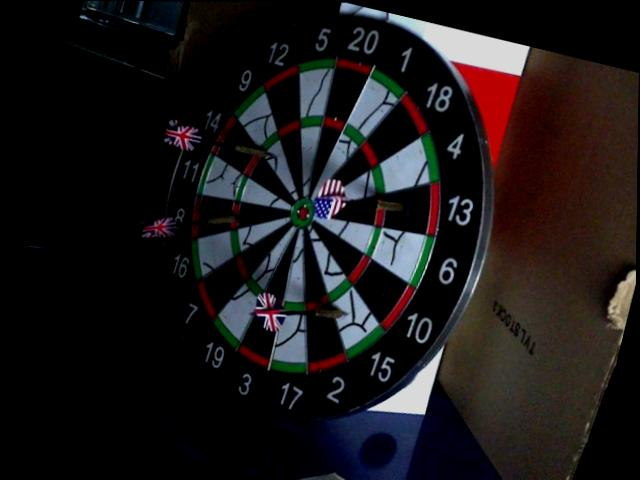single_13: (380, 178, 434, 237)
single_15: (327, 286, 384, 355)
single_8: (238, 203, 285, 236)
single_9: (258, 138, 306, 195)
